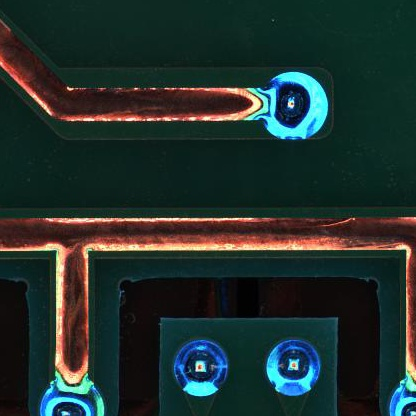spot: (262, 72, 329, 139), (173, 339, 231, 397), (266, 340, 323, 398)
